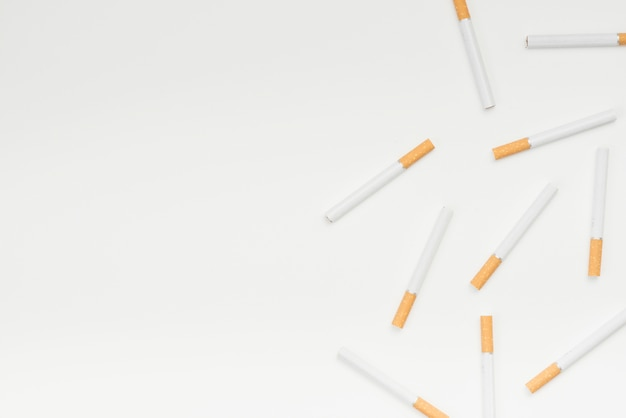cigarette: (464, 184, 560, 292), (325, 137, 438, 224), (524, 308, 626, 394), (389, 204, 454, 329), (337, 347, 449, 416), (490, 111, 620, 159), (452, 0, 496, 110), (583, 144, 615, 278), (476, 312, 505, 418), (527, 29, 626, 54)
